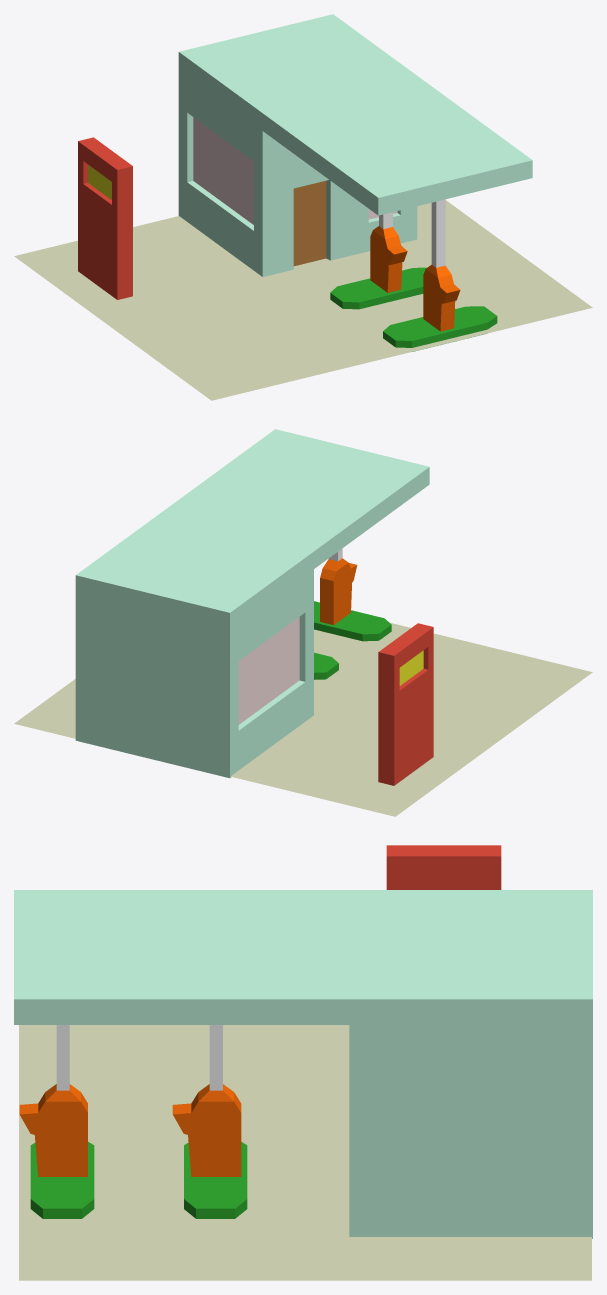
File: GasStation2.glb
The picture shows the model from 3 angles, top to bottom: view 1: azimuth 30°, elevation 25°; view 2: azimuth 150°, elevation 25°; view 3: azimuth 270°, elevation 25°; orthographic projection. The views are drawn at different scales.
Parts seen in each view (by area): view 1: Cube002; view 2: Cube002; view 3: Cube002.
Part boxes in pixels (x1,y1,x2,y2): Cube002: (14,14,592,400); Cube002: (14,429,592,816); Cube002: (14,845,592,1280).
Bounding box in the file's own units: 2011 × 850 × 1823.
